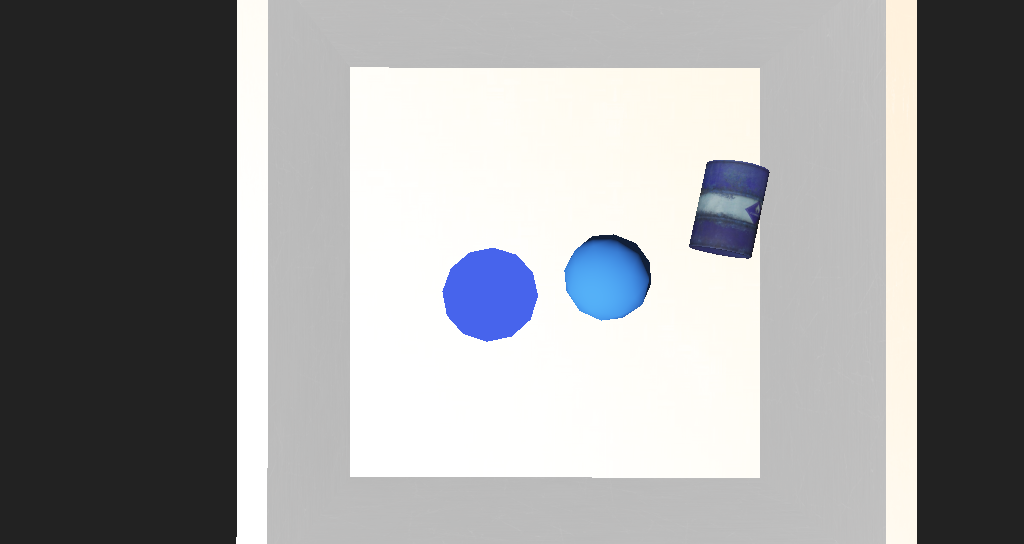cone: (600, 212, 667, 265)
cylinder: (421, 260, 495, 313)
sphere: (515, 251, 576, 293)
